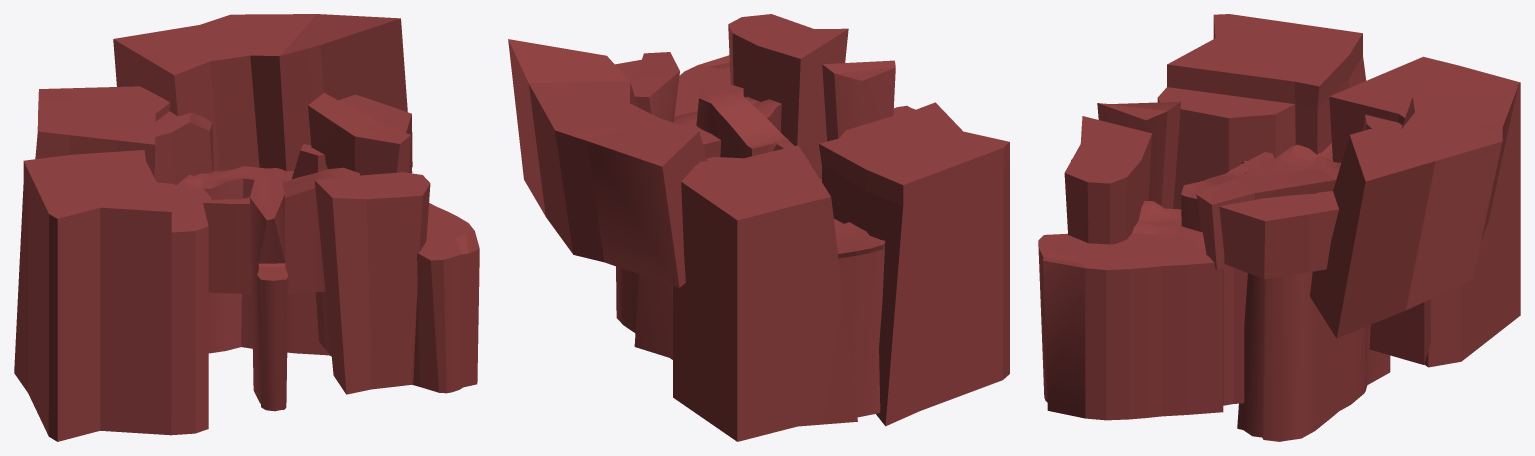
The model's file is Zone3Final 1.FBX.
3 views of the same model, side by side, from view 1: azimuth 30°, elevation 25°; view 2: azimuth 150°, elevation 25°; view 3: azimuth 270°, elevation 25° (orthographic). The views are drawn at different scales.
Parts seen in each view (by area): view 1: New_Game_Object__4_, New_Game_Object_4, New_Game_Object_7, New_Game_Object_2, Cube, New_Game_Object__3__1, New_Game_Object__3_, New_Game_Object_3, New_Game_Object_5, New_Game_Object__5_, New_Game_Object, New_Game_Object_6 (+1 smaller); view 2: New_Game_Object__3__1, New_Game_Object__4_, New_Game_Object_4, New_Game_Object_7, Box001, New_Game_Object__3_, Cube, New_Game_Object__5_, New_Game_Object_5, New_Game_Object_2, New_Game_Object_1, New_Game_Object_3; view 3: New_Game_Object_4, New_Game_Object_2, New_Game_Object__4_, New_Game_Object__3__1, New_Game_Object_3, New_Game_Object_7, New_Game_Object, New_Game_Object_1, New_Game_Object_5, New_Game_Object__3_, New_Game_Object__5_, Cube (+1 smaller).
Boxes of the visible parts, x1,y1,x2,y2 form: New_Game_Object__4_: [14, 150, 208, 441]; New_Game_Object_4: [113, 14, 412, 173]; New_Game_Object_7: [314, 172, 430, 394]; New_Game_Object_2: [412, 203, 479, 393]; Cube: [203, 167, 360, 294]; New_Game_Object__3__1: [35, 86, 169, 177]; New_Game_Object__3_: [250, 175, 288, 411]; New_Game_Object_3: [195, 166, 330, 355]; New_Game_Object_5: [308, 93, 410, 175]; New_Game_Object__5_: [154, 111, 213, 185]; New_Game_Object: [338, 94, 412, 172]; New_Game_Object_6: [292, 144, 327, 179]; New_Game_Object__3__1: [673, 145, 857, 441]; New_Game_Object__4_: [819, 102, 1009, 426]; New_Game_Object_4: [508, 39, 707, 287]; New_Game_Object_7: [728, 14, 848, 179]; Box001: [833, 218, 885, 417]; New_Game_Object__3_: [822, 60, 915, 141]; Cube: [696, 83, 809, 161]; New_Game_Object__5_: [634, 157, 742, 358]; New_Game_Object_5: [629, 52, 679, 122]; New_Game_Object_2: [674, 55, 730, 116]; New_Game_Object_1: [673, 96, 781, 158]; New_Game_Object_3: [616, 266, 672, 359]; New_Game_Object_4: [1310, 85, 1518, 338]; New_Game_Object_2: [1038, 233, 1223, 420]; New_Game_Object__4_: [1157, 14, 1366, 209]; New_Game_Object__3__1: [1329, 56, 1520, 367]; New_Game_Object_3: [1237, 271, 1390, 441]; New_Game_Object_7: [1064, 116, 1152, 244]; New_Game_Object: [1219, 191, 1338, 279]; New_Game_Object_1: [1132, 201, 1247, 405]; New_Game_Object_5: [1196, 168, 1335, 270]; New_Game_Object__3_: [1071, 101, 1180, 208]; New_Game_Object__5_: [1363, 114, 1430, 364]; Cube: [1181, 152, 1279, 232].
Size of the model in its own units: 17603 by 11130 by 16214.
